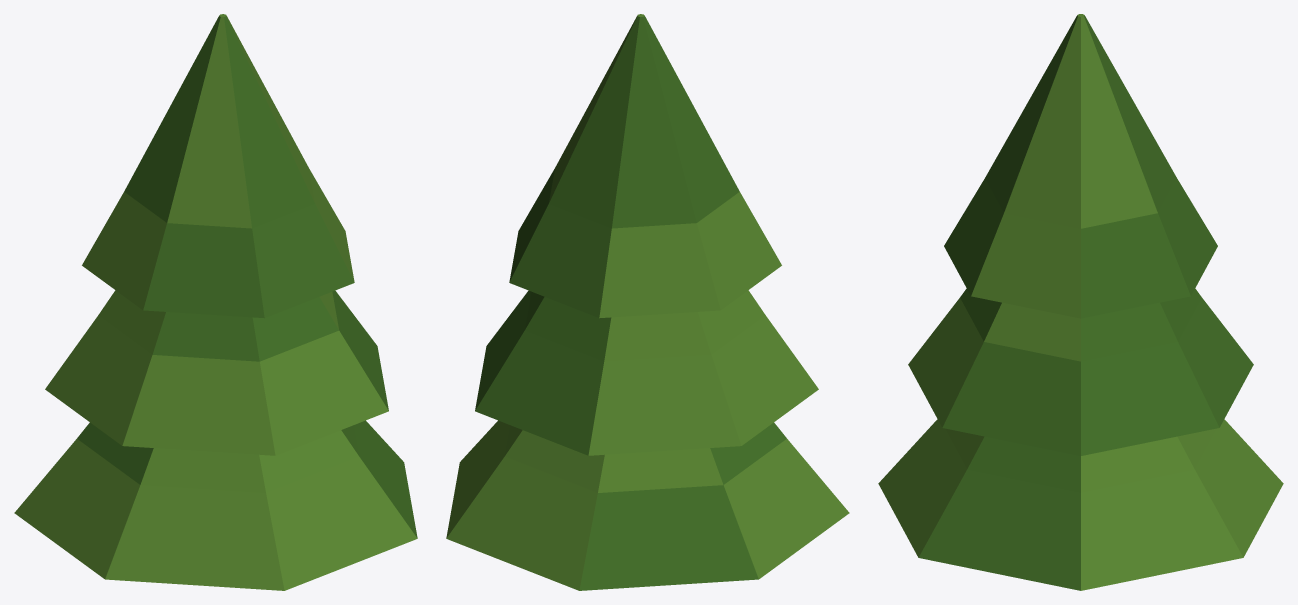
File: kit_pine.glb
3 views of the same model, side by side, from view 1: azimuth 30°, elevation 25°; view 2: azimuth 150°, elevation 25°; view 3: azimuth 270°, elevation 25° (orthographic).
Parts seen in each view (by area): view 1: Angular pine crown, Angular pine crown.002, Angular pine crown.001; view 2: Angular pine crown, Angular pine crown.002, Angular pine crown.001; view 3: Angular pine crown, Angular pine crown.002, Angular pine crown.001.
Boxes of the visible parts, x1,y1,x2,y2 form: Angular pine crown: [14, 420, 417, 590]; Angular pine crown.002: [82, 14, 354, 318]; Angular pine crown.001: [45, 290, 388, 455]; Angular pine crown: [446, 420, 849, 590]; Angular pine crown.002: [509, 14, 781, 318]; Angular pine crown.001: [475, 290, 818, 455]; Angular pine crown: [878, 419, 1283, 590]; Angular pine crown.002: [944, 14, 1217, 318]; Angular pine crown.001: [908, 288, 1253, 455].
Bounding box in the file's own units: 1.55 × 2.4 × 1.59.
